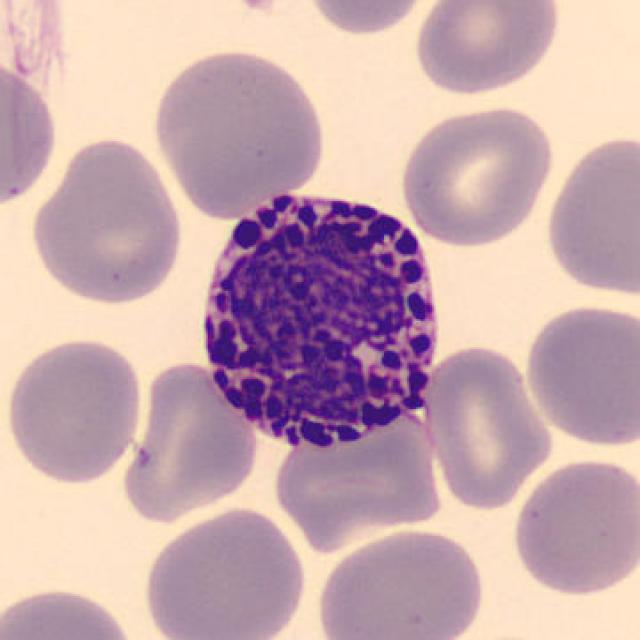Basophil: (188, 171, 454, 467)
RBC: (146, 44, 330, 219), (25, 132, 188, 309), (268, 409, 448, 557), (116, 358, 263, 529), (396, 100, 558, 248), (420, 340, 558, 513), (139, 504, 311, 640), (2, 333, 148, 487), (313, 523, 489, 640), (507, 453, 638, 600), (521, 298, 638, 451), (540, 128, 640, 300), (409, 0, 565, 97), (2, 51, 62, 215), (2, 582, 144, 640), (300, 0, 438, 37)
